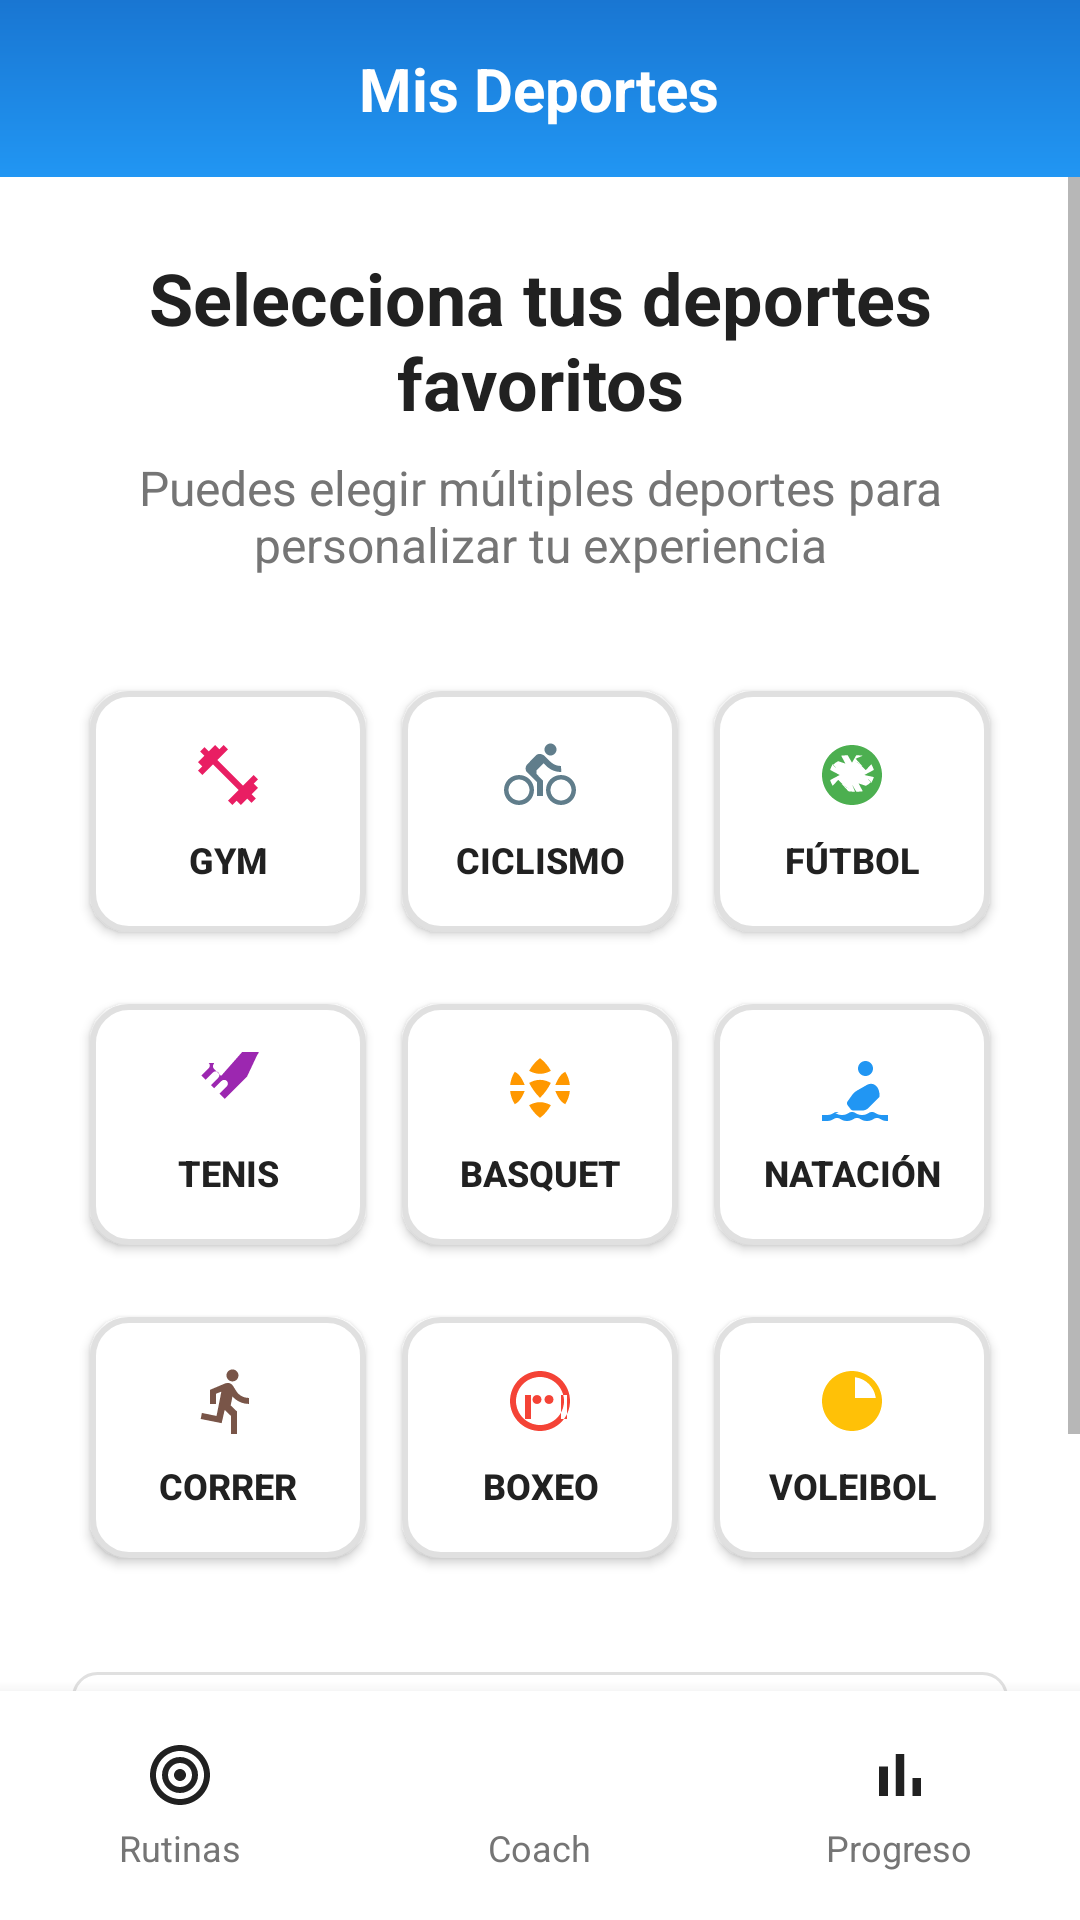

Icons on this 1080w x 1920h Android screen, each with its box as (x1=x1, y1=y1, x2=x2, y2=y2):
chart: (x1=879, y1=1754, x2=921, y2=1796)
target: (x1=150, y1=1745, x2=210, y2=1805)
